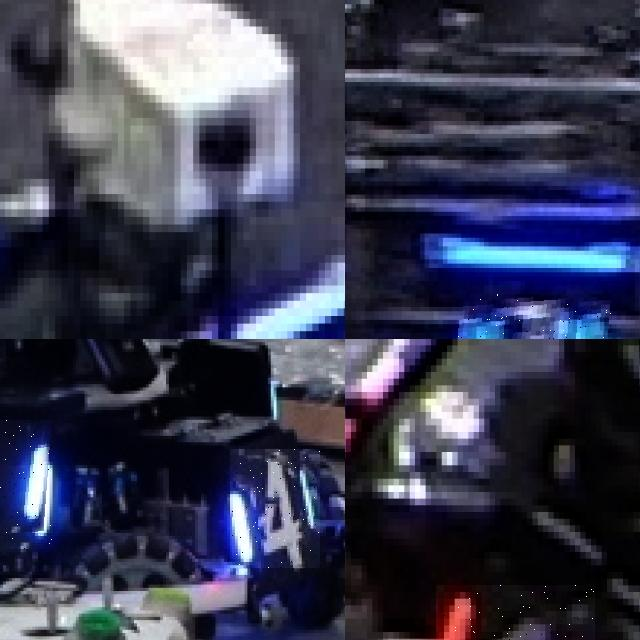B2: (456, 294, 612, 339)
B3: (0, 419, 52, 549)
B4: (230, 449, 320, 568)
R4: (436, 585, 596, 640)
